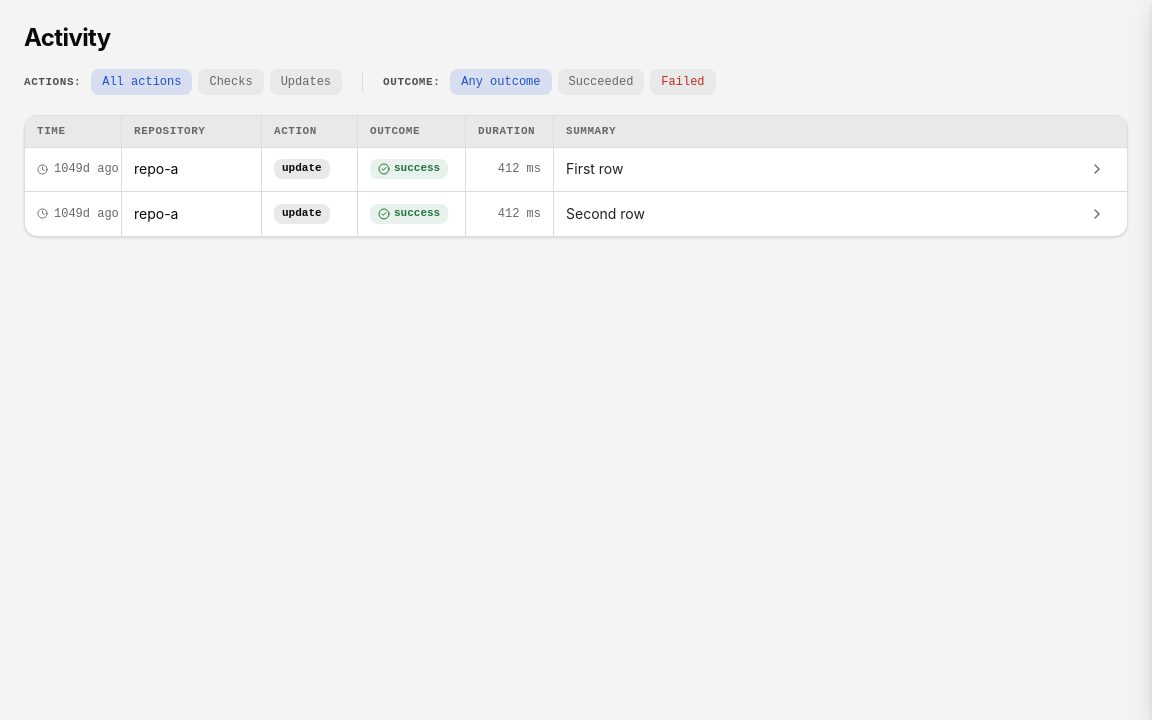
Test: ActivityScreen table › D2: the row behind an open receipt is marked current, and no other row is
The image size is (1152, 720).
Click the text "First row" at [595, 169], box [566,159,624,179]
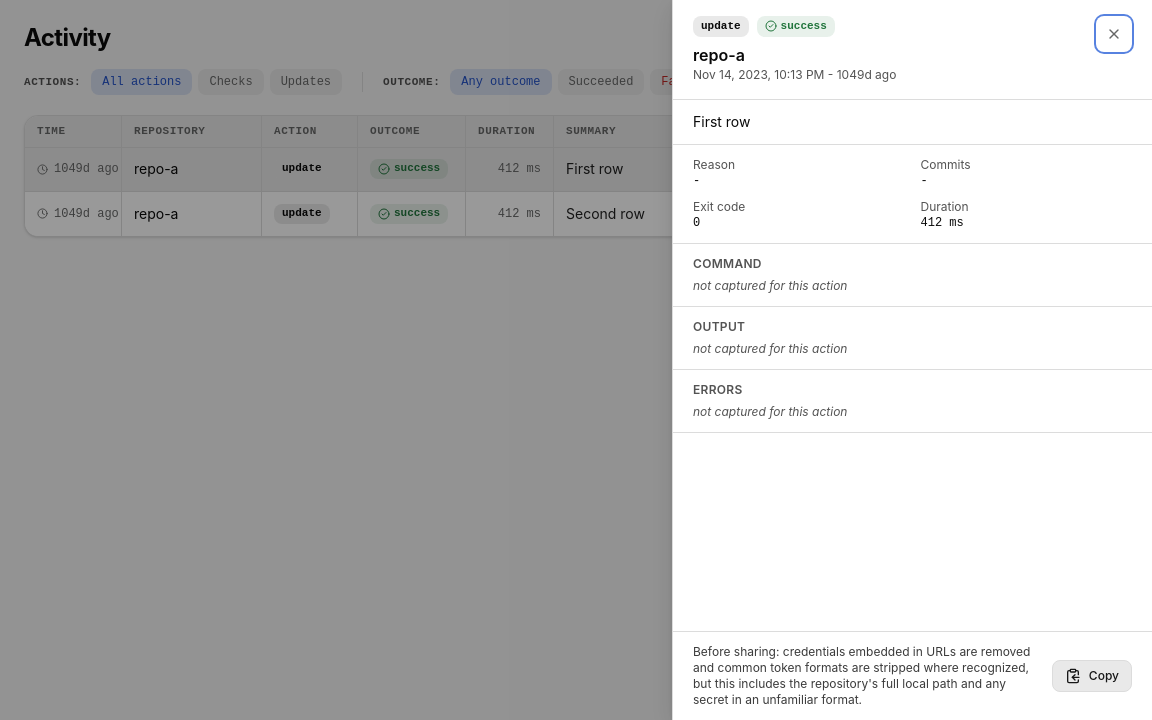
Now the button "Copy" is shown, box [1052,660,1132,692]
